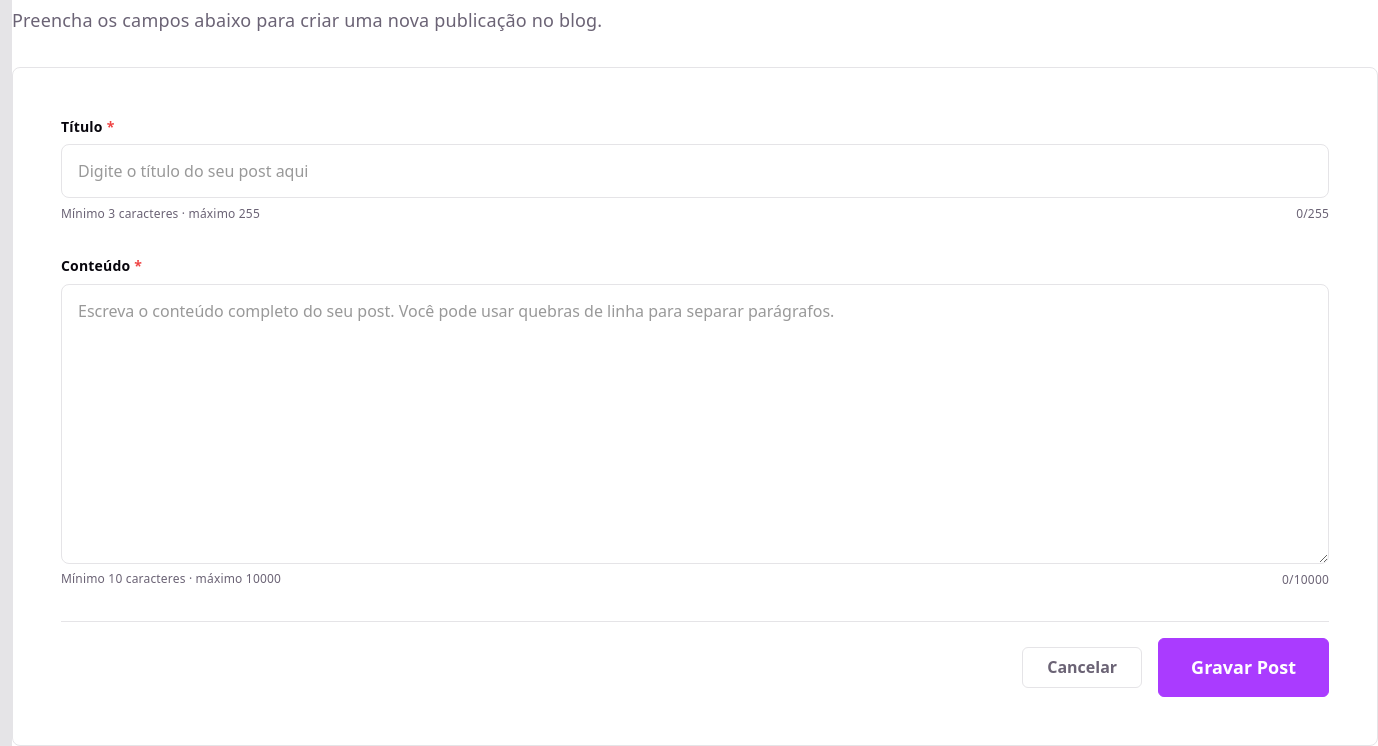
Test case: <PostCreate /> › deve mostrar mensagens de erro de validação quando submete formulário vazio
(page scrolled)
Click the button "Gravar Post" at (1244, 667), box [1158, 638, 1329, 697]
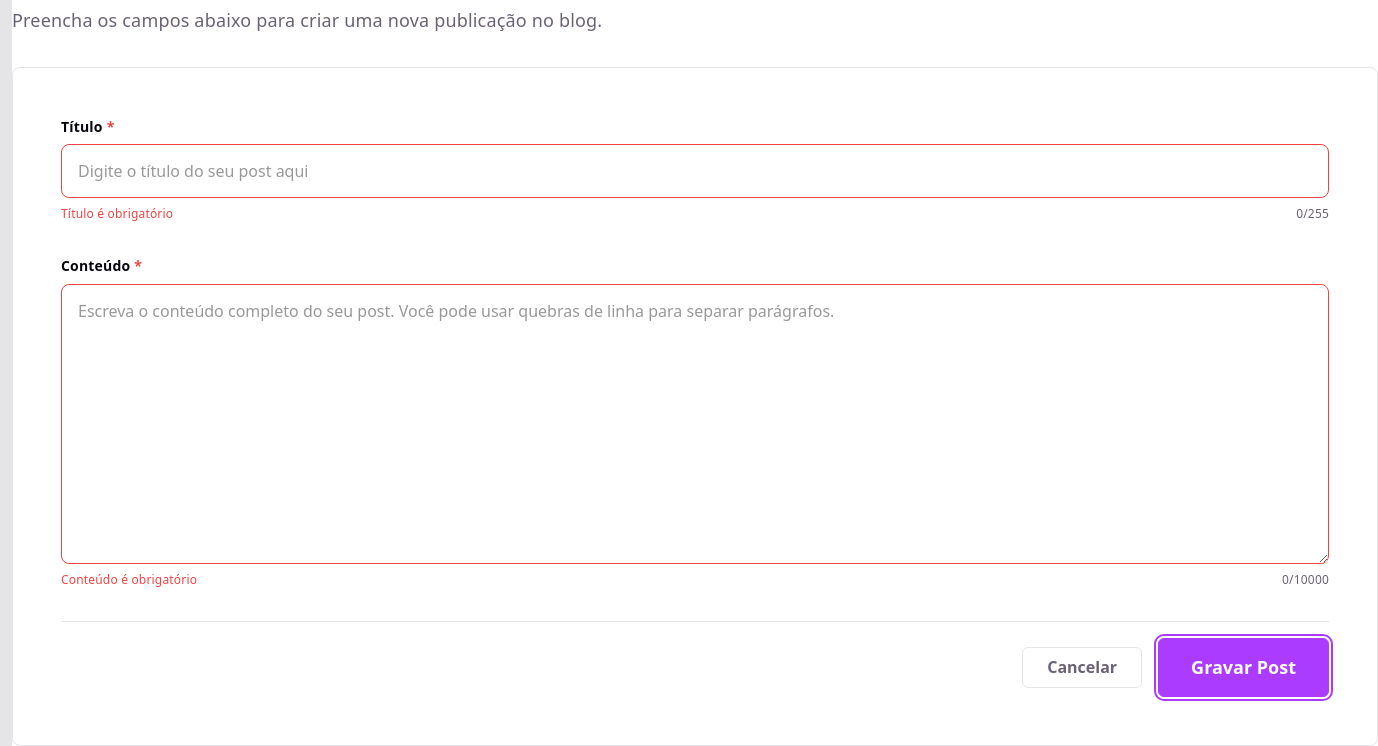
Expected: the text "Título é obrigatório" is shown, [61, 204, 173, 223]
Expected: the text "Conteúdo é obrigatório" is shown, [61, 570, 197, 589]
